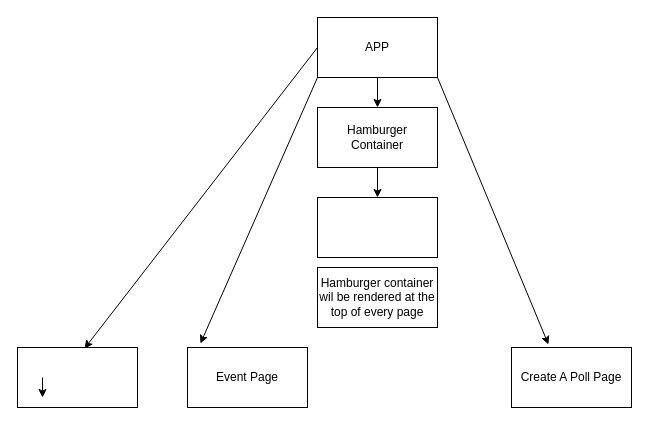
This 649x425 diagram has some shape labels left out. Here are the shapes that lost their labels. From the top down, the centre of each, then its label:
At pixel 377 227: "Dashboard Menu (Onclick rendered on top of what ever page you are on".
At pixel 77 377: "Create Event Page".
